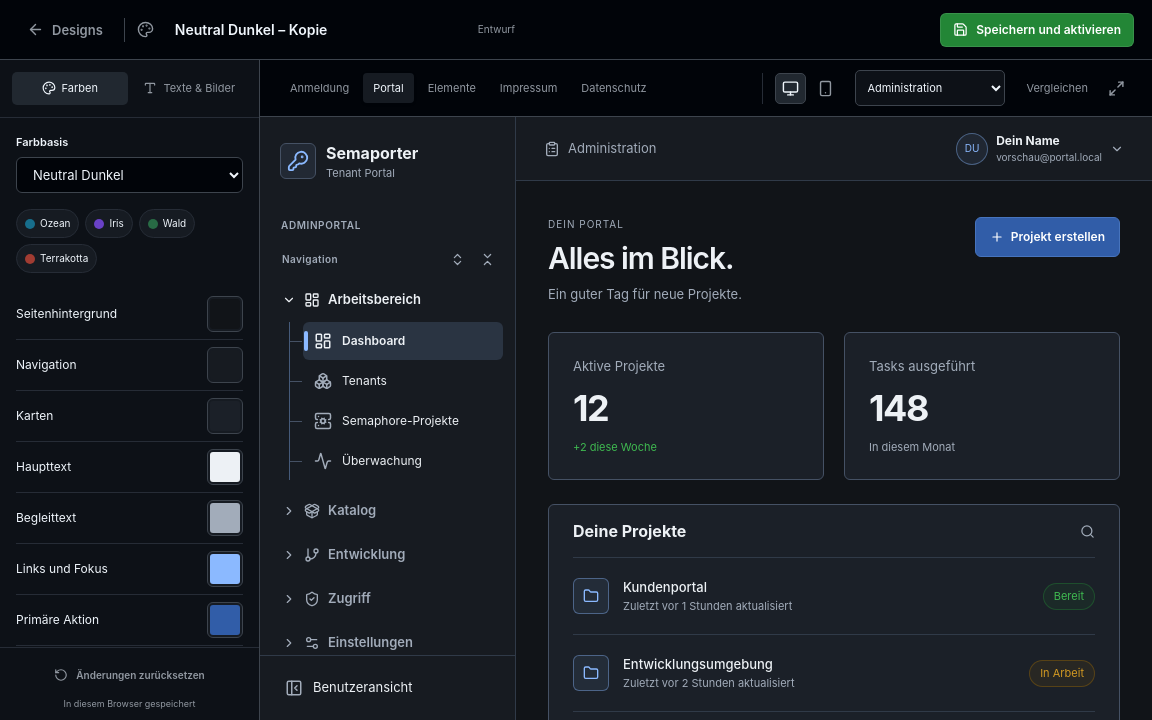
Design-Creator › verhindert das Speichern unlesbarer Farben
Type "#1b2028" into the colour field labelled "Haupttext" at (225, 467), box [207,449,243,485]
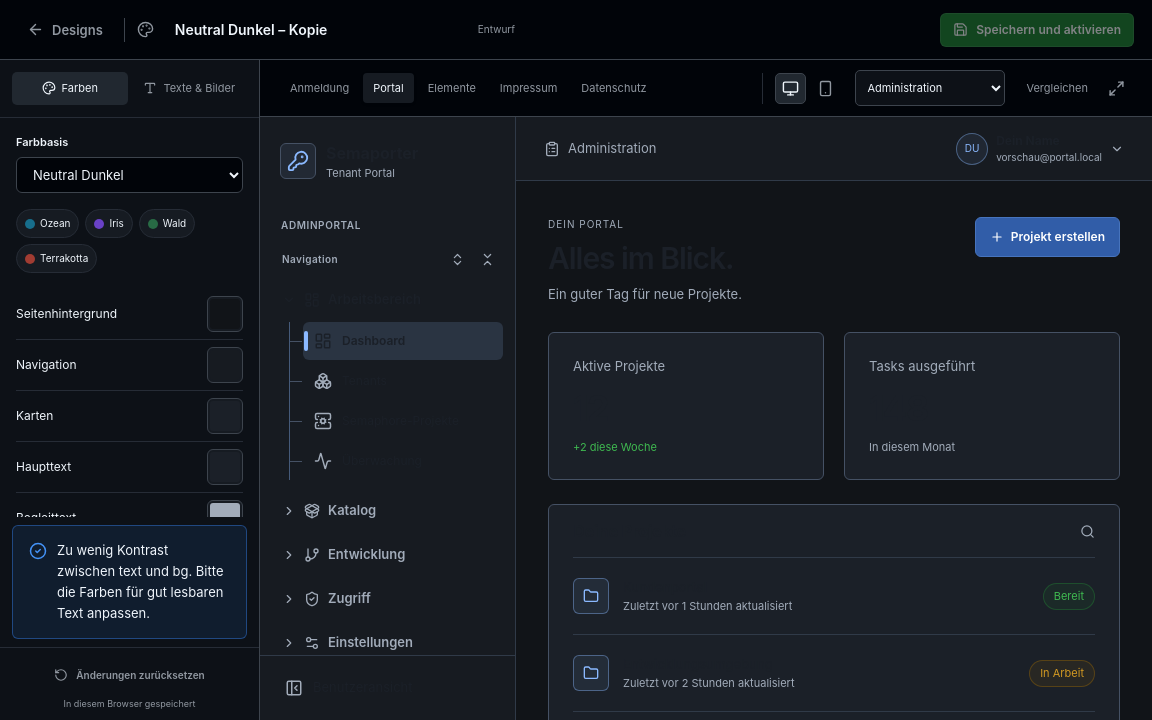
Result: the button "Speichern und aktivieren" is disabled at [940,12,1134,46]
Result: the message shows "Kontrast" at [57,542,224,621]
Click the button "Änderungen zurücksetzen" at (130, 674), box [47,658,212,692]
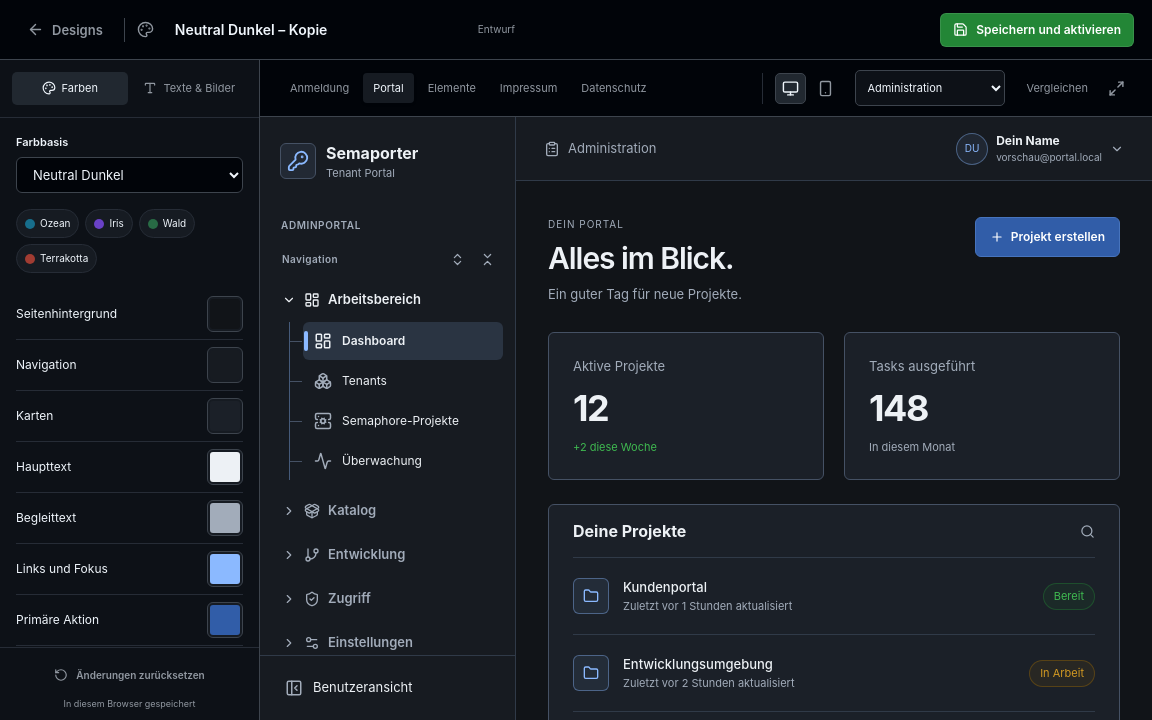
Result: the button "Speichern und aktivieren" is enabled at [940,12,1134,46]
